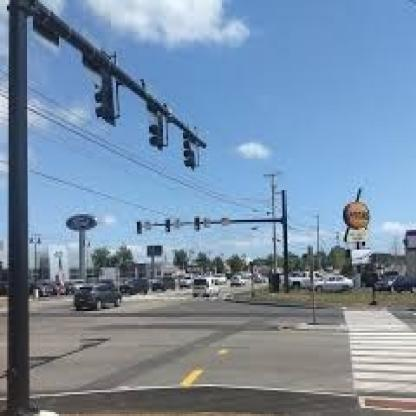Crosswalk: (343, 305, 416, 402)
Traffic Signal: (195, 217, 201, 231)
